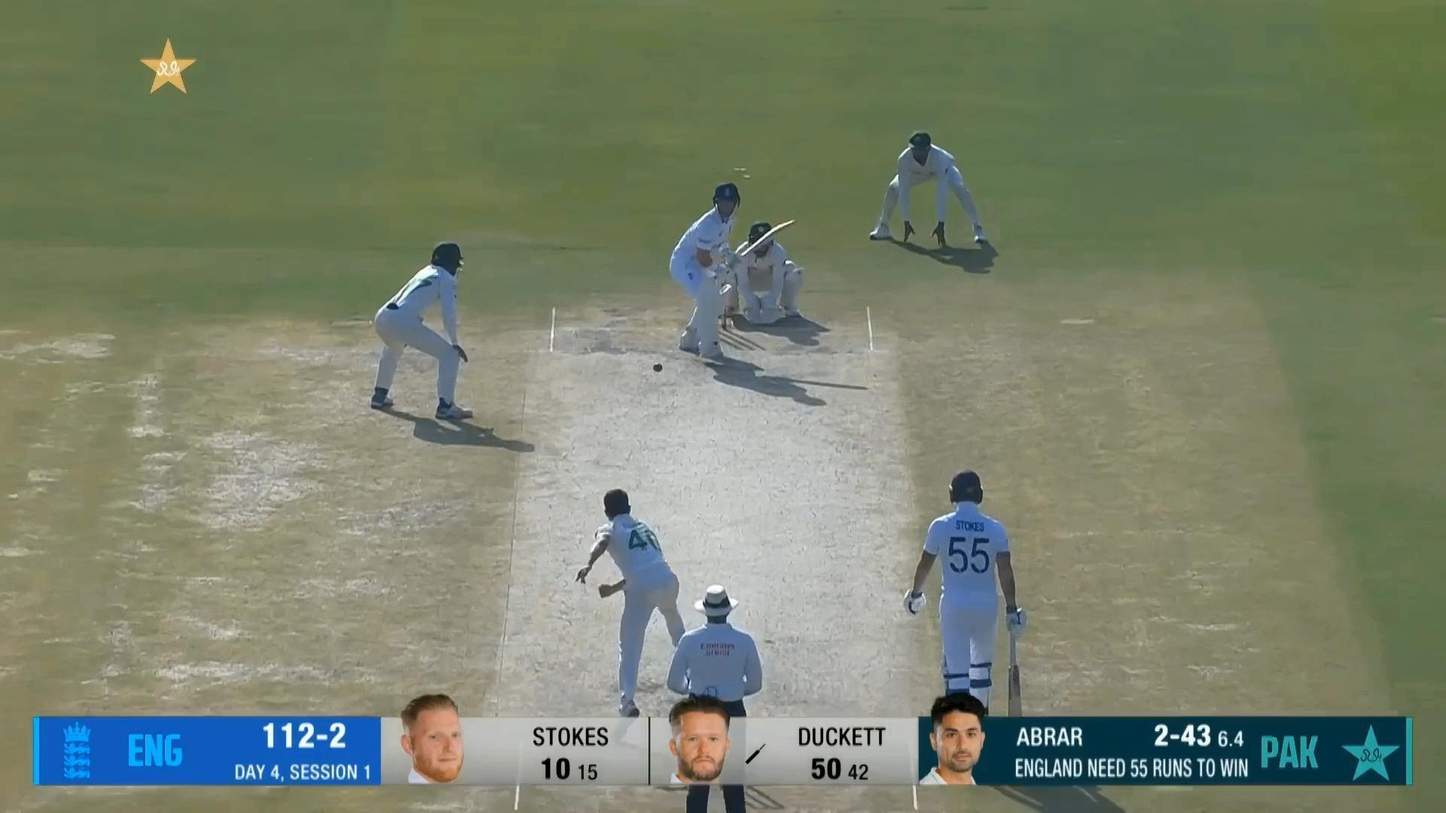BM 1: (669, 181, 798, 360)
BO: (572, 487, 685, 715)
